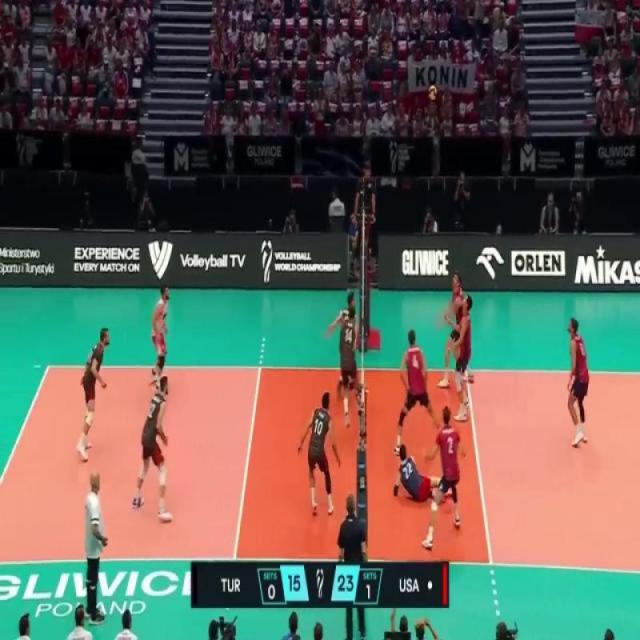volleyball: (426, 82, 438, 104)
